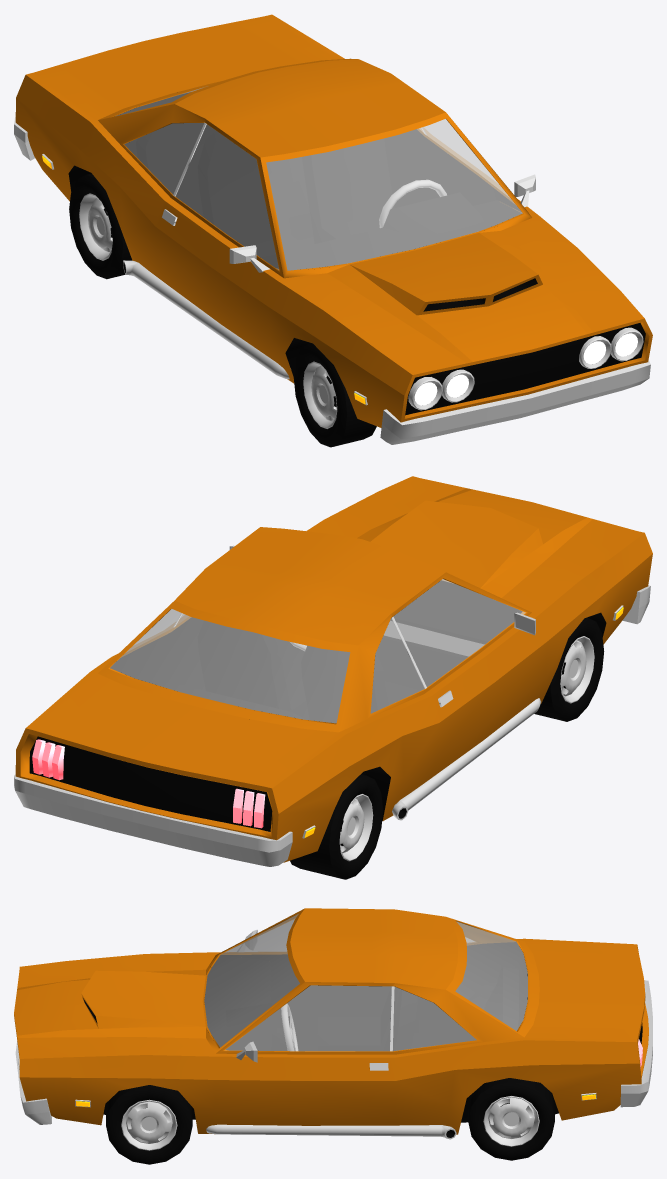
File: car_orange.glb
3 renders of one model, top to bottom at view 1: azimuth 30°, elevation 25°; view 2: azimuth 150°, elevation 25°; view 3: azimuth 270°, elevation 25°, orthographic. The views are drawn at different scales.
Parts seen in each view (by area): view 1: Cube_0, Cube.001_3, Cube.005_6; view 2: Cube_0, Cube.005_6, Cube.001_3; view 3: Cube_0, Cube.002_4, Cube.004_5.
Part boxes in pixels (x1=…): Cube_0: x1=14, y1=14, x2=652, y2=444; Cube.001_3: x1=293, y1=343, x2=376, y2=447; Cube.005_6: x1=69, y1=173, x2=132, y2=279; Cube_0: x1=14, y1=476, x2=652, y2=866; Cube.005_6: x1=290, y1=774, x2=383, y2=879; Cube.001_3: x1=534, y1=617, x2=604, y2=721; Cube_0: x1=14, y1=908, x2=652, y2=1139; Cube.002_4: x1=468, y1=1078, x2=554, y2=1160; Cube.004_5: x1=106, y1=1085, x2=192, y2=1164.
Bounding box in the file's own units: 5.46 × 3.6 × 12.16.
